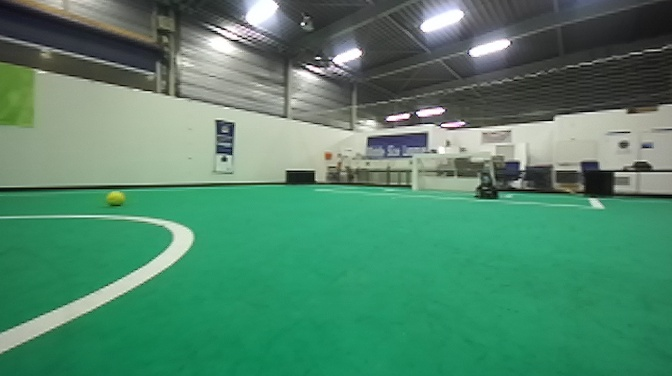ball: (106, 187, 129, 209)
goal: (409, 151, 497, 198)
robot: (473, 158, 502, 200)
